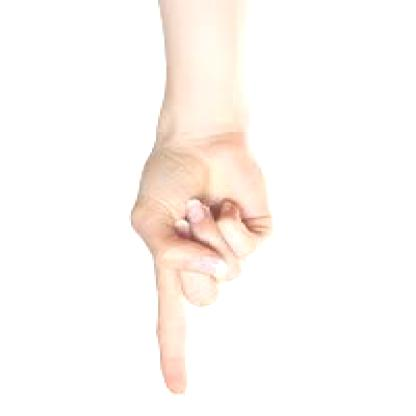Down: (100, 134, 298, 403)
